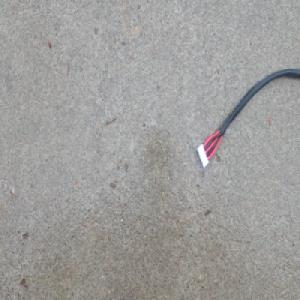Wire: (195, 68, 300, 169)
